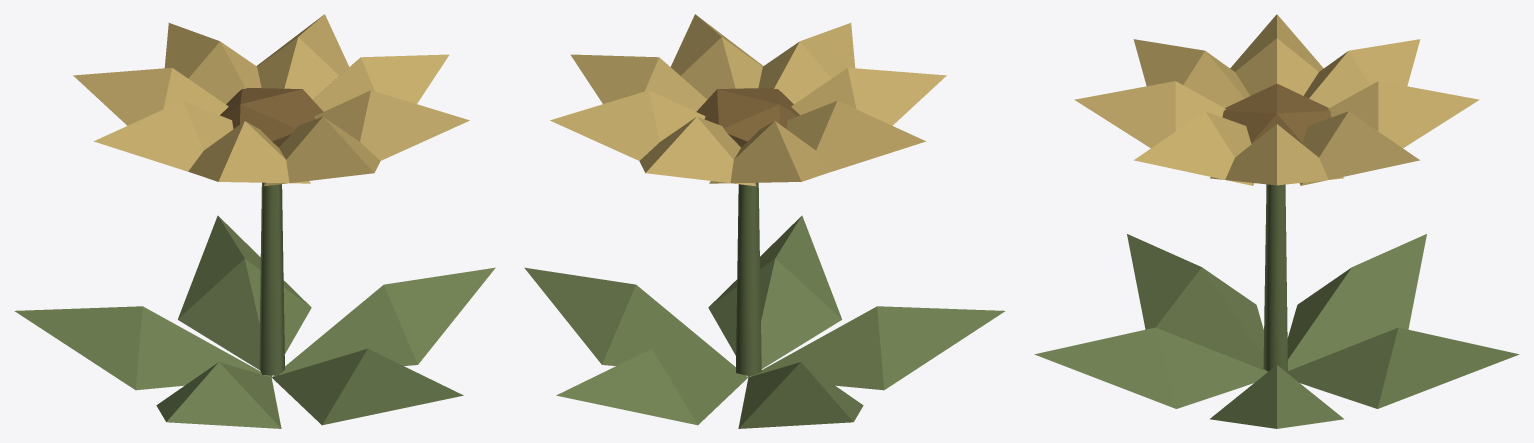
File: plant-rosette.glb
The picture shows the model from 3 angles, left to right: view 1: azimuth 30°, elevation 25°; view 2: azimuth 150°, elevation 25°; view 3: azimuth 270°, elevation 25°; orthographic projection.
Parts seen in each view (by area): view 1: plant-rosette; view 2: plant-rosette; view 3: plant-rosette.
Part boxes in pixels (x1,y1,x2,y2): plant-rosette: (14, 14, 495, 428); plant-rosette: (524, 14, 1005, 428); plant-rosette: (1034, 14, 1519, 428).
Bounding box in the file's own units: 0.6151 × 0.4325 × 0.6467.
